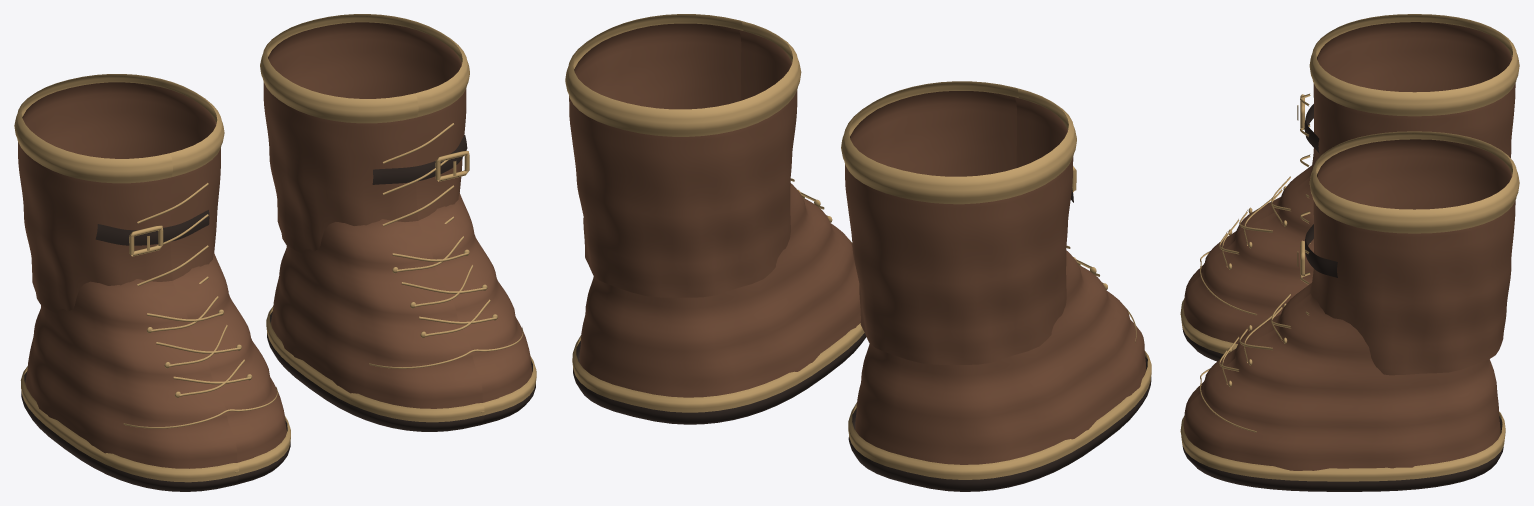
Rendered from stout_leather_boots.glb.
The picture shows the model from 3 angles, left to right: view 1: azimuth 30°, elevation 25°; view 2: azimuth 150°, elevation 25°; view 3: azimuth 270°, elevation 25°; orthographic projection. The views are drawn at different scales.
Visible parts, largest first — view 1: crate-stout_leather_boots-right-shoe-surface-0, crate-stout_leather_boots-left-shoe-surface-0, crate-stout_leather_boots-left-cuff-surface-0, crate-stout_leather_boots-right-cuff-surface-0, crate-stout_leather_boots-left-cuff-surface-1, crate-stout_leather_boots-right-cuff-surface-1, crate-stout_leather_boots-right-shoe-surface-2, crate-stout_leather_boots-left-shoe-surface-2, crate-stout_leather_boots-right-shoe-surface-1, crate-stout_leather_boots-left-shoe-surface-1, crate-stout_leather_boots-right-cuff-surface-2, crate-stout_leather_boots-left-cuff-surface-2; view 2: crate-stout_leather_boots-left-cuff-surface-0, crate-stout_leather_boots-right-cuff-surface-0, crate-stout_leather_boots-right-shoe-surface-0, crate-stout_leather_boots-left-shoe-surface-0, crate-stout_leather_boots-right-cuff-surface-1, crate-stout_leather_boots-left-cuff-surface-1, crate-stout_leather_boots-right-shoe-surface-2, crate-stout_leather_boots-left-shoe-surface-2, crate-stout_leather_boots-right-shoe-surface-1, crate-stout_leather_boots-left-shoe-surface-1; view 3: crate-stout_leather_boots-left-cuff-surface-0, crate-stout_leather_boots-left-shoe-surface-0, crate-stout_leather_boots-right-cuff-surface-0, crate-stout_leather_boots-right-shoe-surface-0, crate-stout_leather_boots-left-cuff-surface-1, crate-stout_leather_boots-right-cuff-surface-1, crate-stout_leather_boots-left-shoe-surface-2, crate-stout_leather_boots-left-shoe-surface-1, crate-stout_leather_boots-right-shoe-surface-2, crate-stout_leather_boots-left-cuff-surface-2.
Part boxes in pixels (x1,y1,x2,y2): crate-stout_leather_boots-right-shoe-surface-0: [25, 253, 286, 468]; crate-stout_leather_boots-left-shoe-surface-0: [271, 192, 532, 408]; crate-stout_leather_boots-left-cuff-surface-0: [263, 22, 466, 253]; crate-stout_leather_boots-right-cuff-surface-0: [18, 82, 220, 313]; crate-stout_leather_boots-left-cuff-surface-1: [260, 14, 469, 226]; crate-stout_leather_boots-right-cuff-surface-1: [14, 74, 224, 286]; crate-stout_leather_boots-right-shoe-surface-2: [20, 296, 290, 482]; crate-stout_leather_boots-left-shoe-surface-2: [266, 236, 536, 422]; crate-stout_leather_boots-right-shoe-surface-1: [21, 371, 290, 491]; crate-stout_leather_boots-left-shoe-surface-1: [267, 311, 535, 431]; crate-stout_leather_boots-right-cuff-surface-2: [95, 210, 209, 245]; crate-stout_leather_boots-left-cuff-surface-2: [372, 135, 467, 184]; crate-stout_leather_boots-left-cuff-surface-0: [569, 23, 797, 297]; crate-stout_leather_boots-right-cuff-surface-0: [845, 91, 1073, 364]; crate-stout_leather_boots-right-shoe-surface-0: [855, 250, 1146, 464]; crate-stout_leather_boots-left-shoe-surface-0: [579, 183, 860, 397]; crate-stout_leather_boots-right-cuff-surface-1: [841, 81, 1076, 204]; crate-stout_leather_boots-left-cuff-surface-1: [565, 14, 801, 136]; crate-stout_leather_boots-right-shoe-surface-2: [848, 245, 1151, 479]; crate-stout_leather_boots-left-shoe-surface-2: [572, 178, 864, 412]; crate-stout_leather_boots-right-shoe-surface-1: [848, 356, 1151, 491]; crate-stout_leather_boots-left-shoe-surface-1: [573, 333, 866, 424]; crate-stout_leather_boots-left-cuff-surface-0: [1310, 139, 1515, 375]; crate-stout_leather_boots-left-shoe-surface-0: [1183, 283, 1500, 470]; crate-stout_leather_boots-right-cuff-surface-0: [1310, 22, 1515, 174]; crate-stout_leather_boots-right-shoe-surface-0: [1183, 165, 1313, 343]; crate-stout_leather_boots-left-cuff-surface-1: [1297, 131, 1519, 315]; crate-stout_leather_boots-right-cuff-surface-1: [1297, 14, 1519, 197]; crate-stout_leather_boots-left-shoe-surface-2: [1180, 293, 1505, 481]; crate-stout_leather_boots-left-shoe-surface-1: [1182, 416, 1503, 491]; crate-stout_leather_boots-right-shoe-surface-2: [1180, 176, 1290, 353]; crate-stout_leather_boots-left-cuff-surface-2: [1305, 224, 1337, 277].
Size of the model in its own units: 0.746 by 0.469 by 0.5135.
